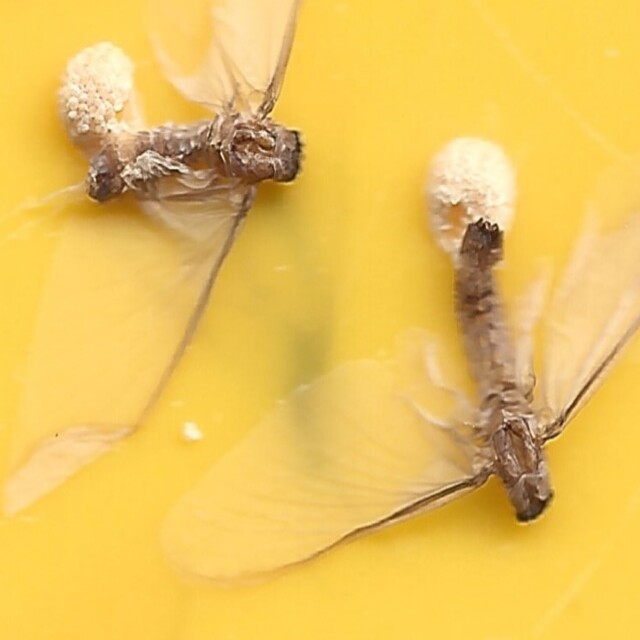Ephemeroptera: (451, 201, 555, 527), (85, 113, 302, 213)
